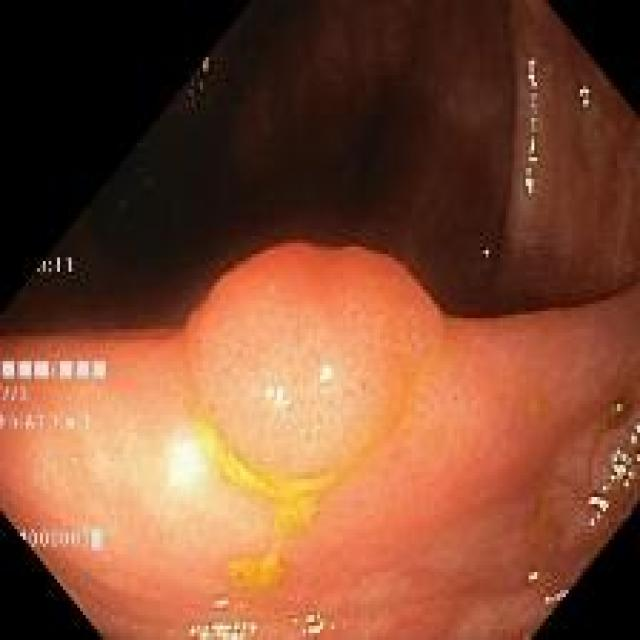Polyps: (186, 244, 442, 501)
